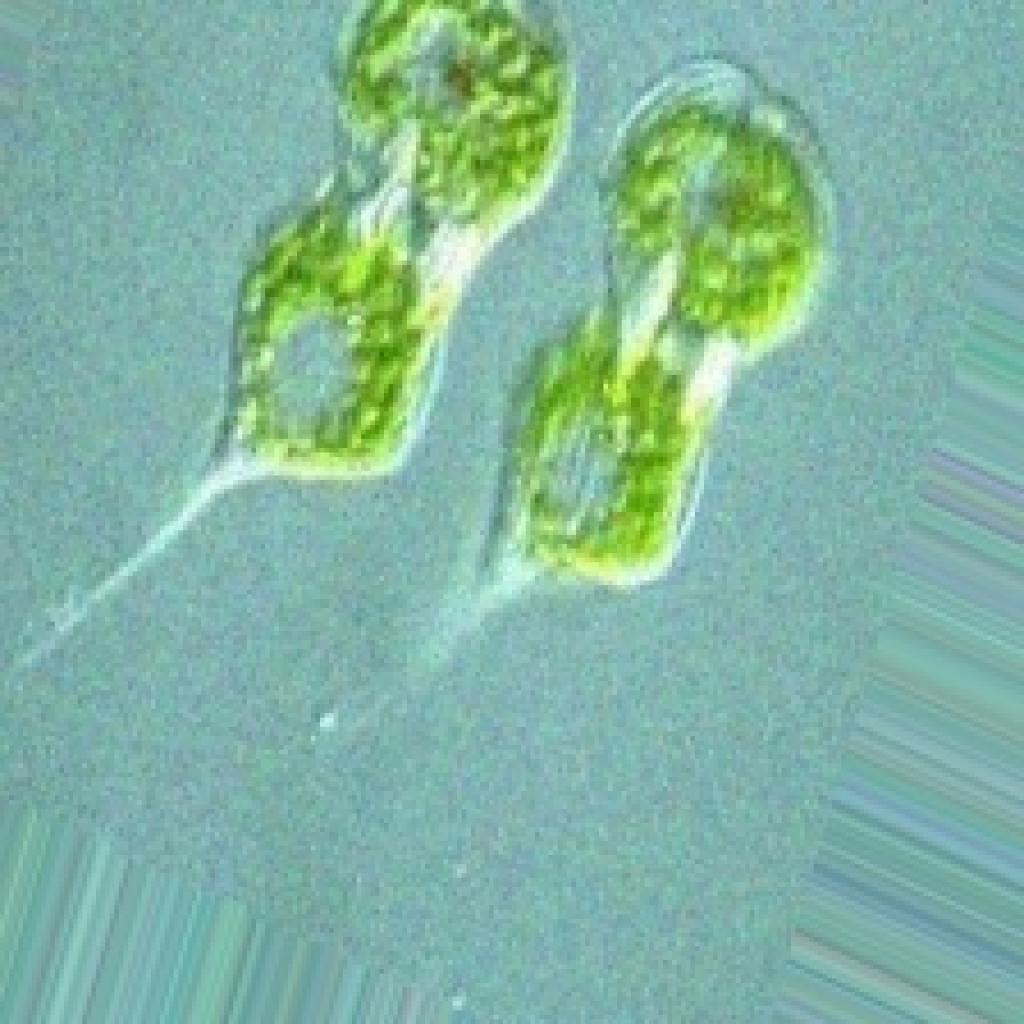Microalgae: (91, 0, 540, 534), (476, 50, 836, 599)
